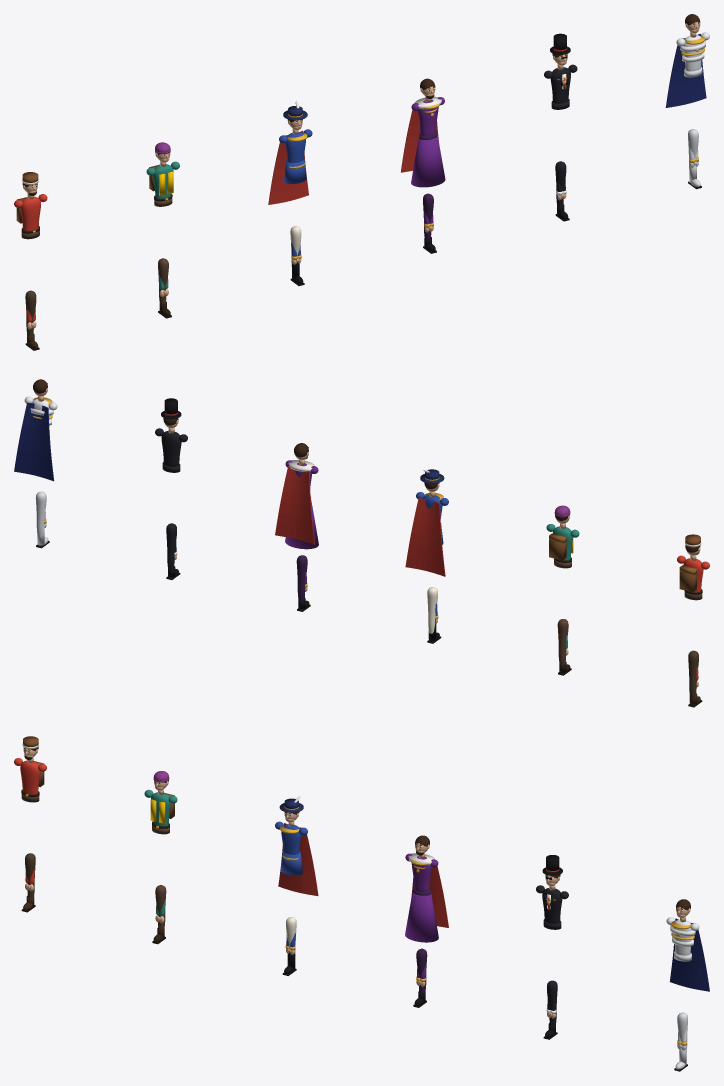
Rendered from hero.glb.
The picture shows the model from 3 angles, top to bottom: view 1: azimuth 30°, elevation 25°; view 2: azimuth 150°, elevation 25°; view 3: azimuth 330°, elevation 25°; orthographic projection.
Parts seen in each view (by area): view 1: hero3_body, hero2_body, hero5_body, hero4_body, hero0_body, hero1_body; view 2: hero3_body, hero2_body, hero5_body, hero4_body, hero0_body, hero1_body, hero0_legL, hero2_legL, hero1_legL, hero5_legL, hero3_legL, hero4_legL; view 3: hero3_body, hero2_body, hero5_body, hero4_body, hero0_body, hero1_body.
Boxes of the visible parts, x1,y1,x2,y2 form: hero3_body: [401, 78, 445, 187]; hero2_body: [268, 100, 312, 204]; hero5_body: [665, 14, 709, 107]; hero4_body: [544, 33, 577, 109]; hero0_body: [14, 172, 47, 239]; hero1_body: [146, 142, 179, 206]; hero3_body: [275, 443, 318, 549]; hero2_body: [405, 469, 448, 576]; hero5_body: [14, 379, 57, 481]; hero4_body: [155, 398, 187, 472]; hero0_body: [677, 534, 709, 600]; hero1_body: [546, 505, 579, 568]; hero0_legL: [688, 650, 702, 707]; hero2_legL: [427, 587, 441, 643]; hero1_legL: [557, 619, 571, 675]; hero5_legL: [36, 491, 49, 548]; hero3_legL: [296, 555, 310, 611]; hero4_legL: [166, 523, 180, 579]; hero3_body: [405, 835, 448, 942]; hero2_body: [275, 795, 318, 895]; hero5_body: [666, 899, 709, 991]; hero4_body: [536, 855, 568, 929]; hero0_body: [14, 736, 46, 802]; hero1_body: [144, 771, 177, 834].
Size of the model in its own units: 13.19 by 3.24 by 0.46.
